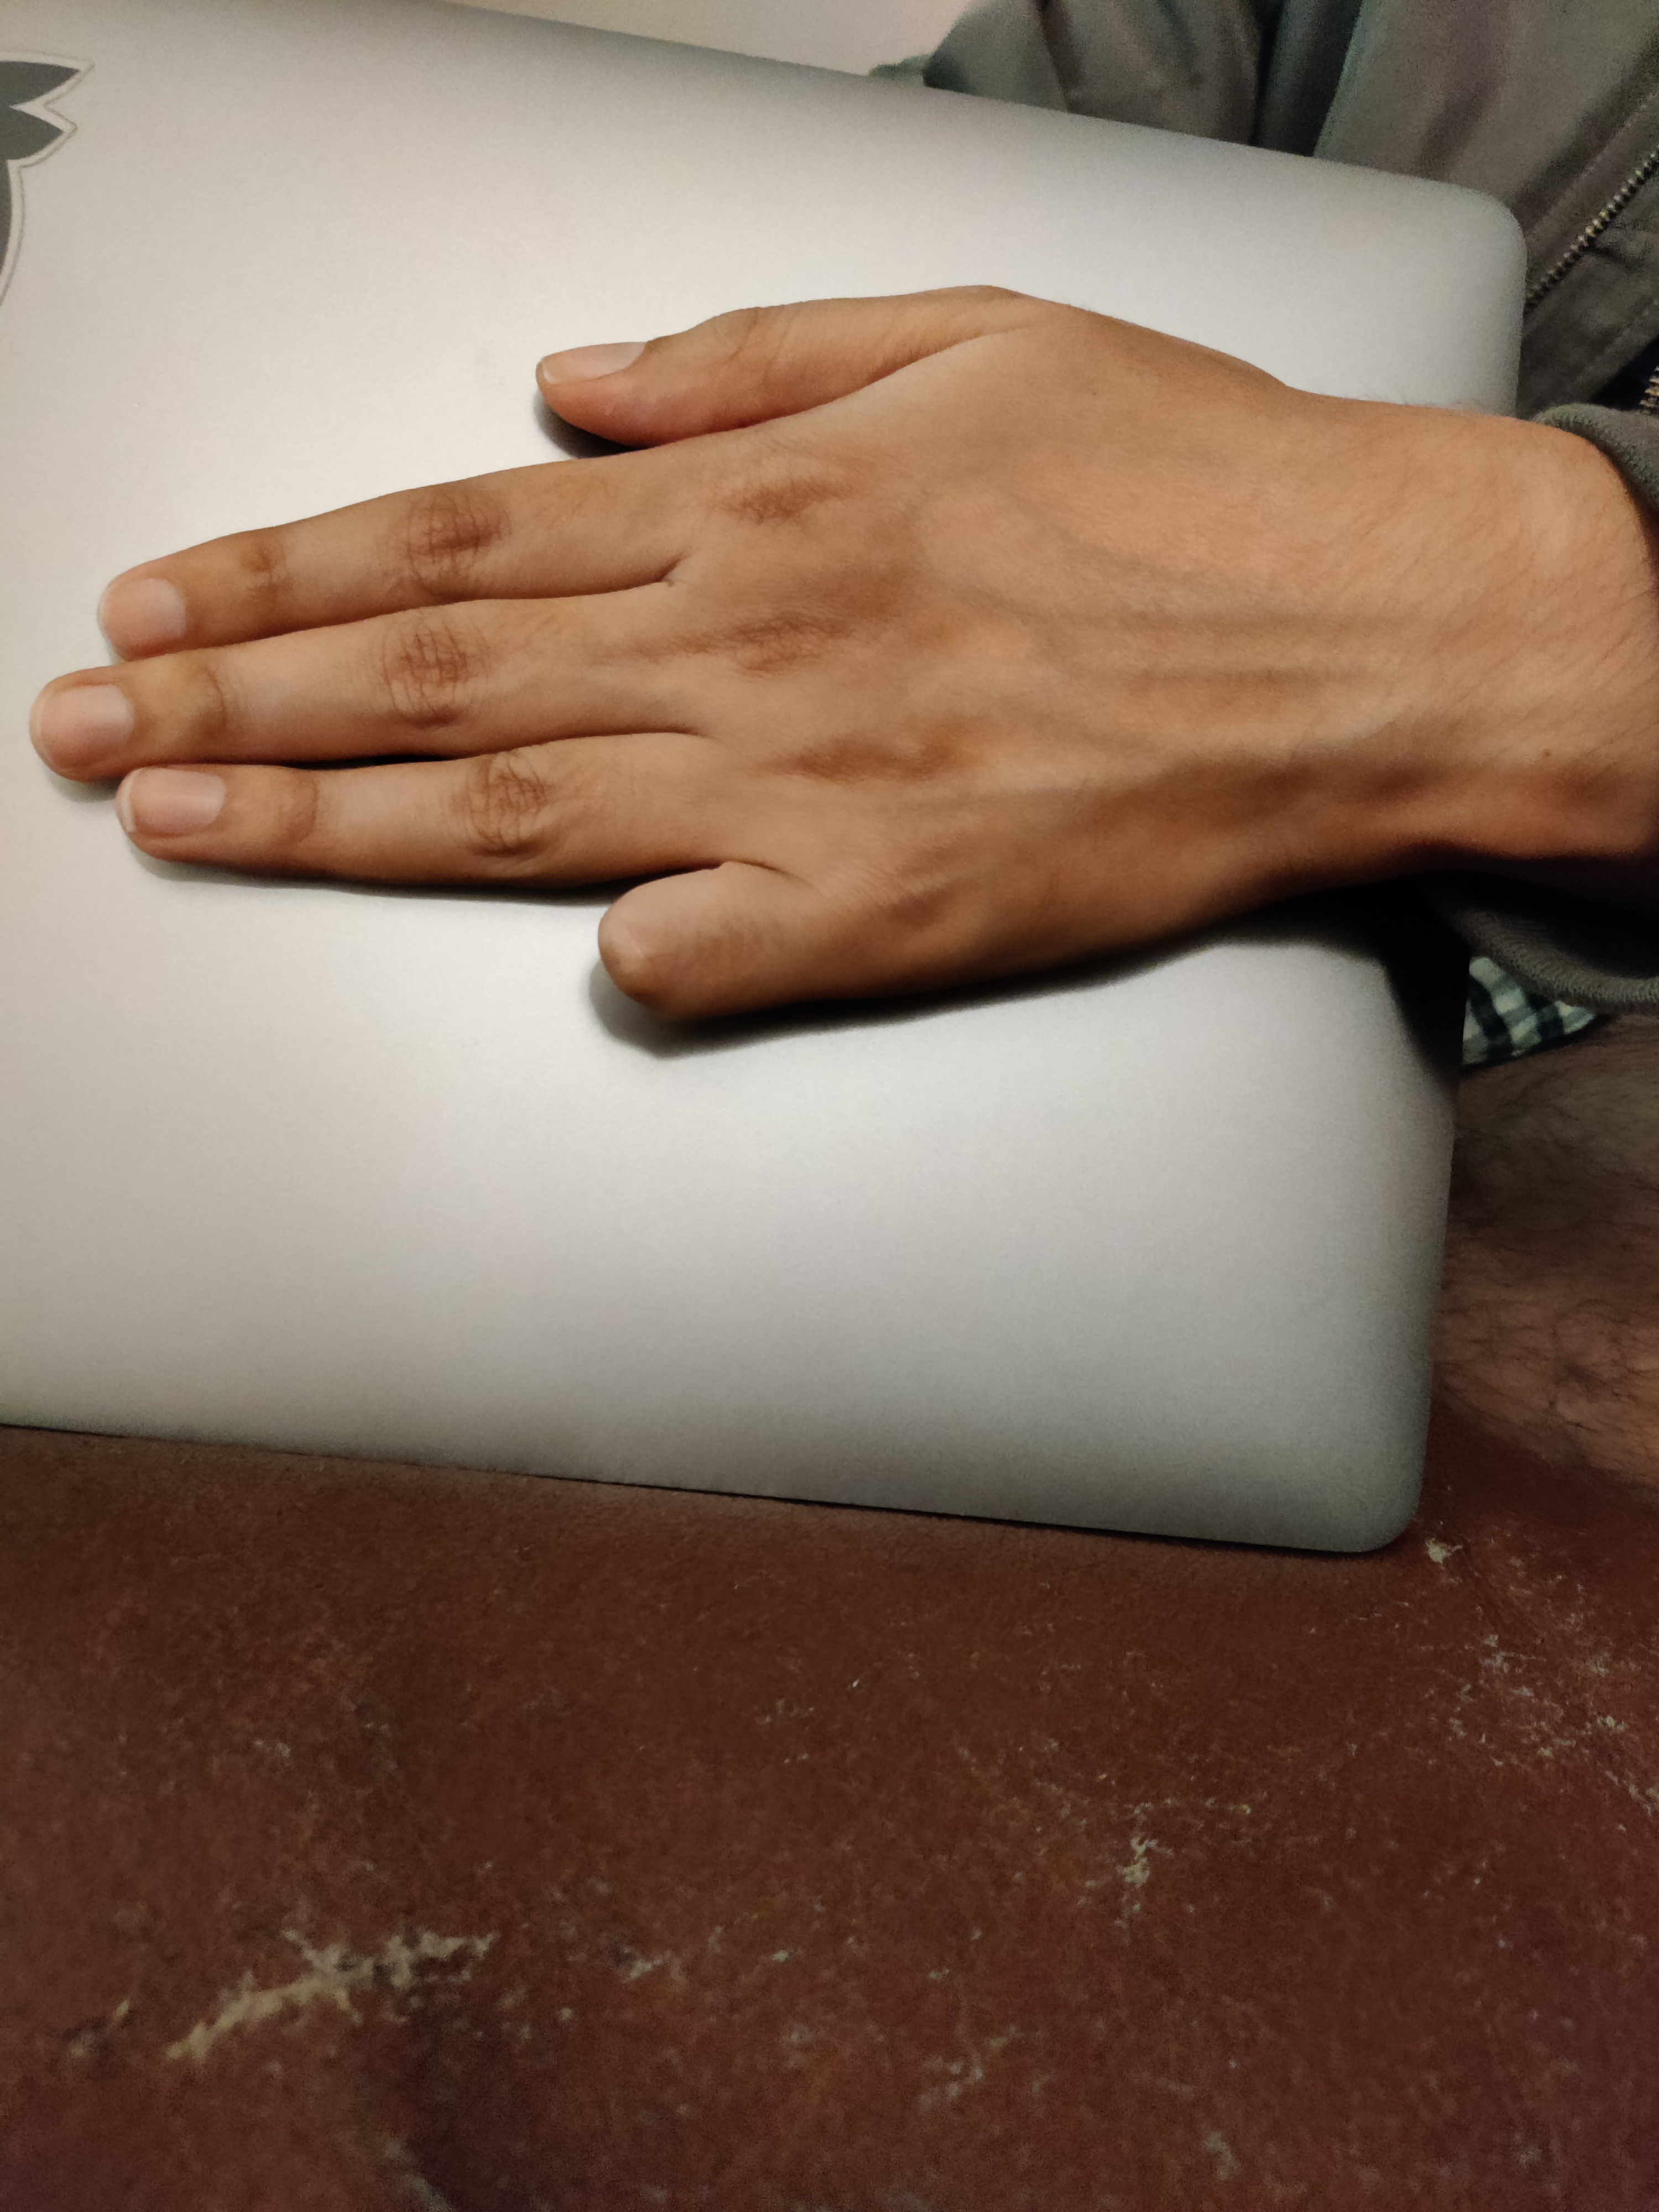right: (10, 212, 1574, 1228)
